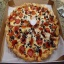pizza: (4, 6, 60, 62)
